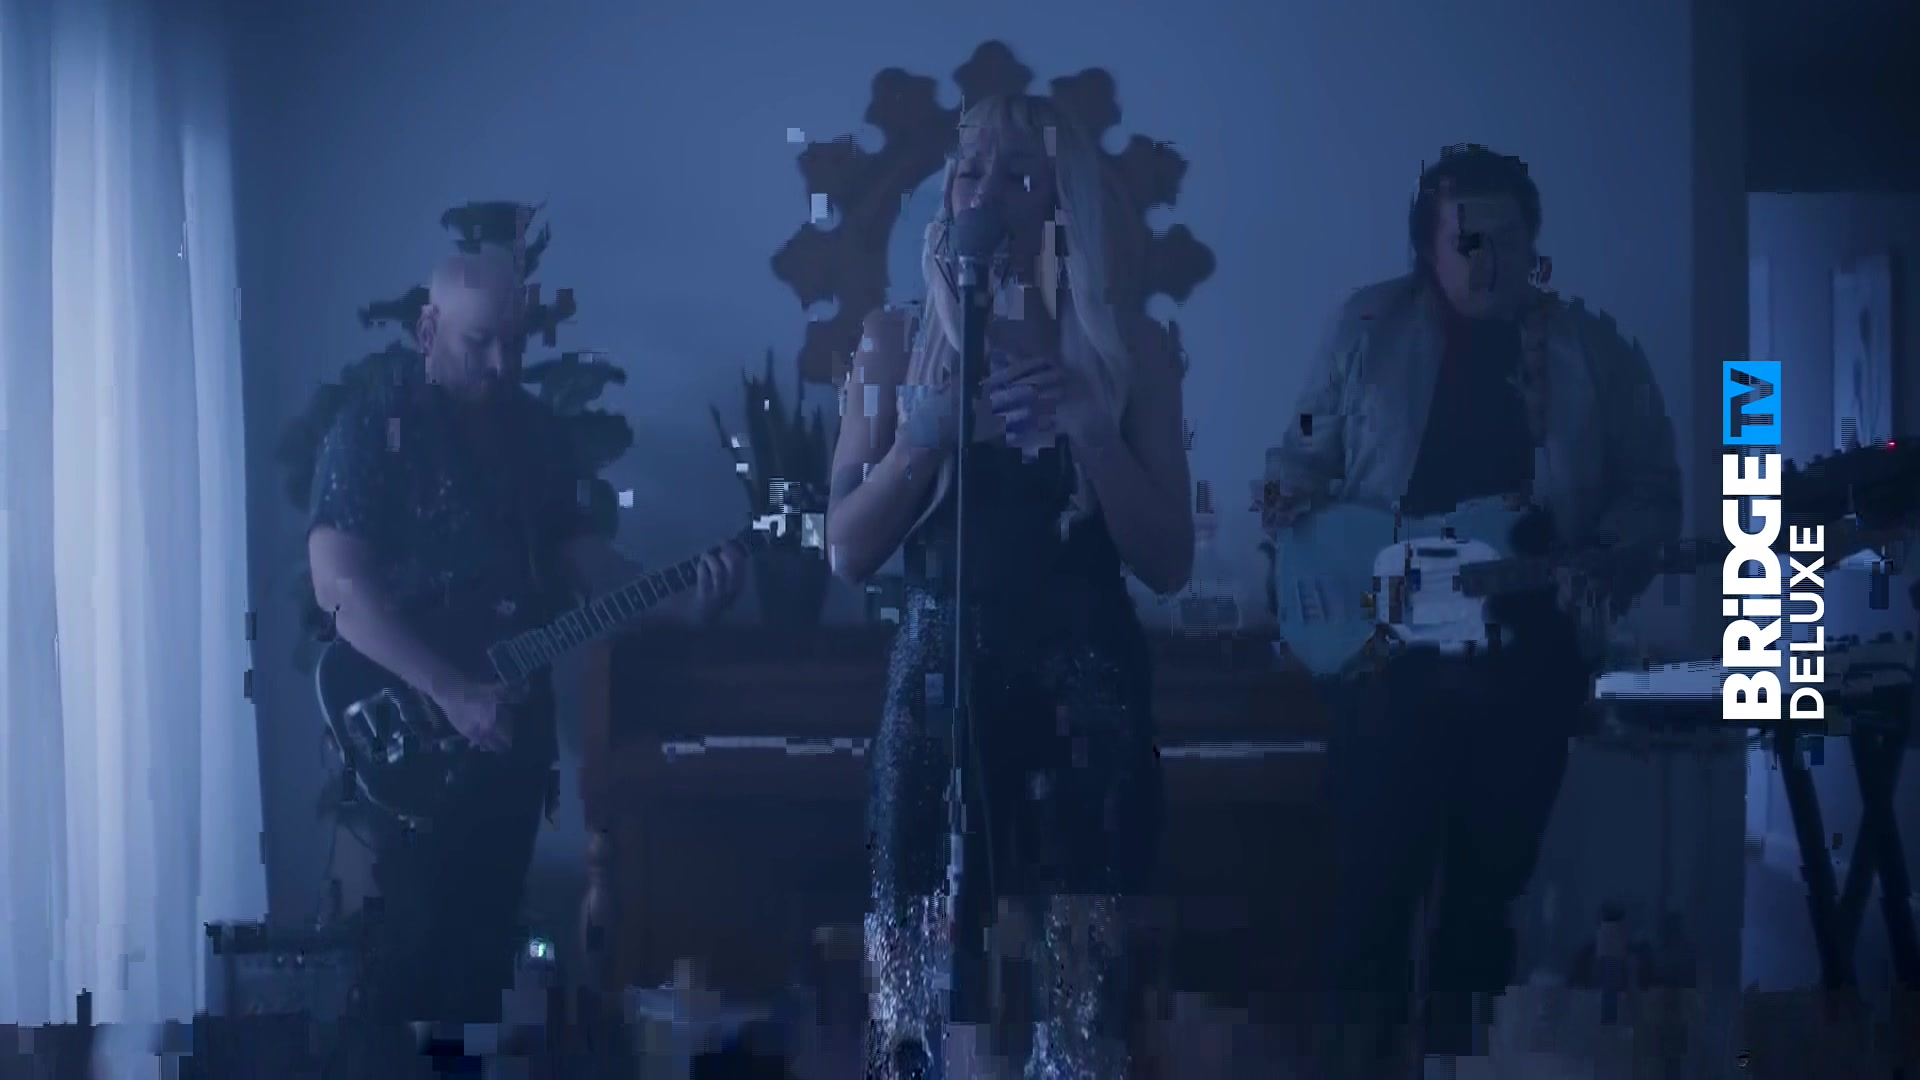Bridge_TV_Deluxe: (1716, 353, 1832, 727)
